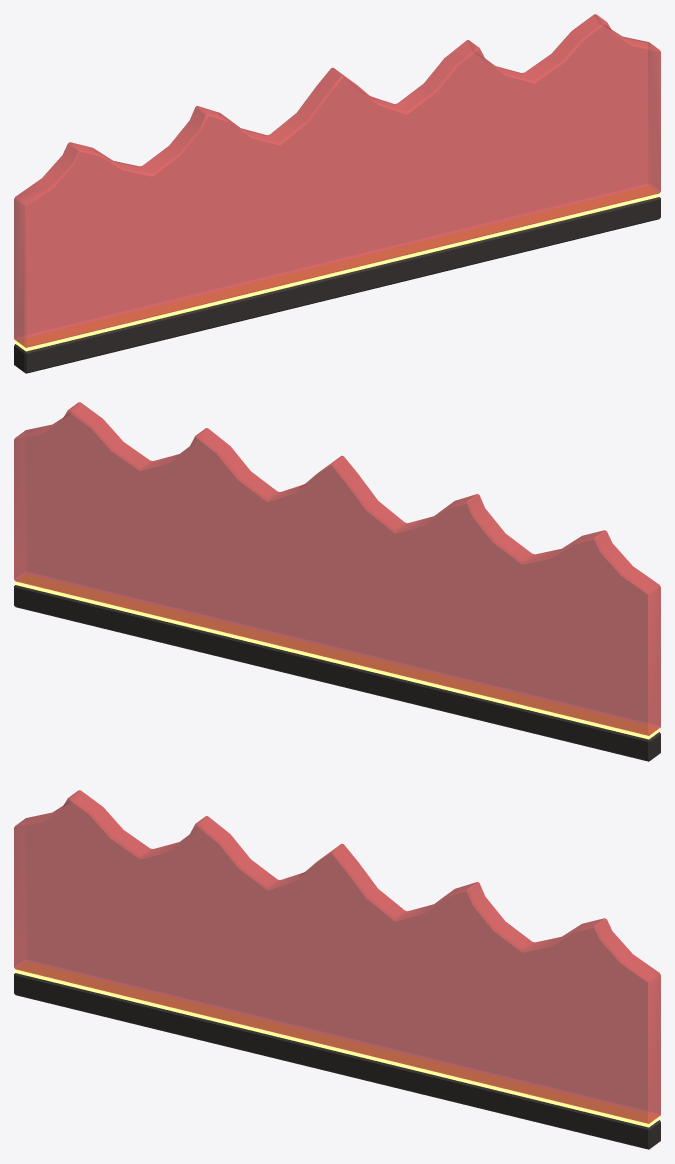
File: rabatoire_haut_gauche_Modele.fbx
3 renders of one model, top to bottom at view 1: azimuth 30°, elevation 25°; view 2: azimuth 150°, elevation 25°; view 3: azimuth 330°, elevation 25°, orthographic.
Parts seen in each view (by area): view 1: rabatoire_haut_gauche_Modele; view 2: rabatoire_haut_gauche_Modele; view 3: rabatoire_haut_gauche_Modele.
Boxes of the visible parts, <box> form: rabatoire_haut_gauche_Modele: <box>14,14,660,373</box>; rabatoire_haut_gauche_Modele: <box>14,402,660,761</box>; rabatoire_haut_gauche_Modele: <box>14,790,660,1149</box>.
Size of the model in its own units: 3 by 0.9949 by 0.1.
